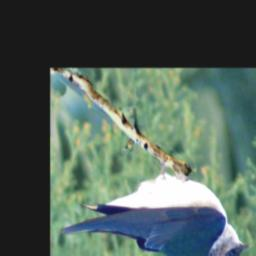Swallow: (60, 153, 252, 256)
